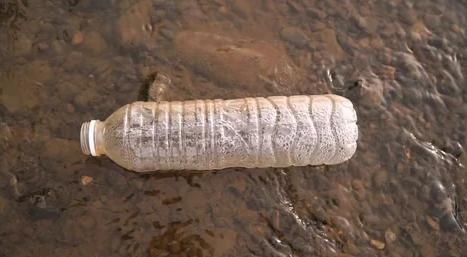Plastic: (74, 92, 357, 176)
